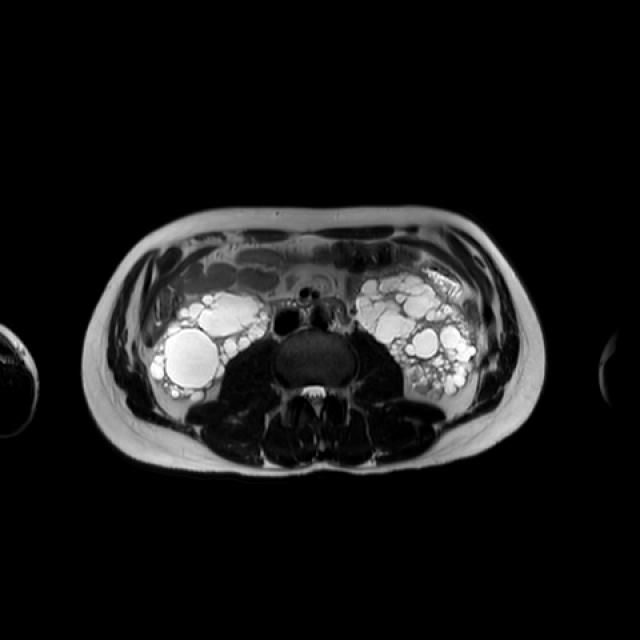sag: (151, 293, 272, 402)
sol: (356, 273, 477, 396)
